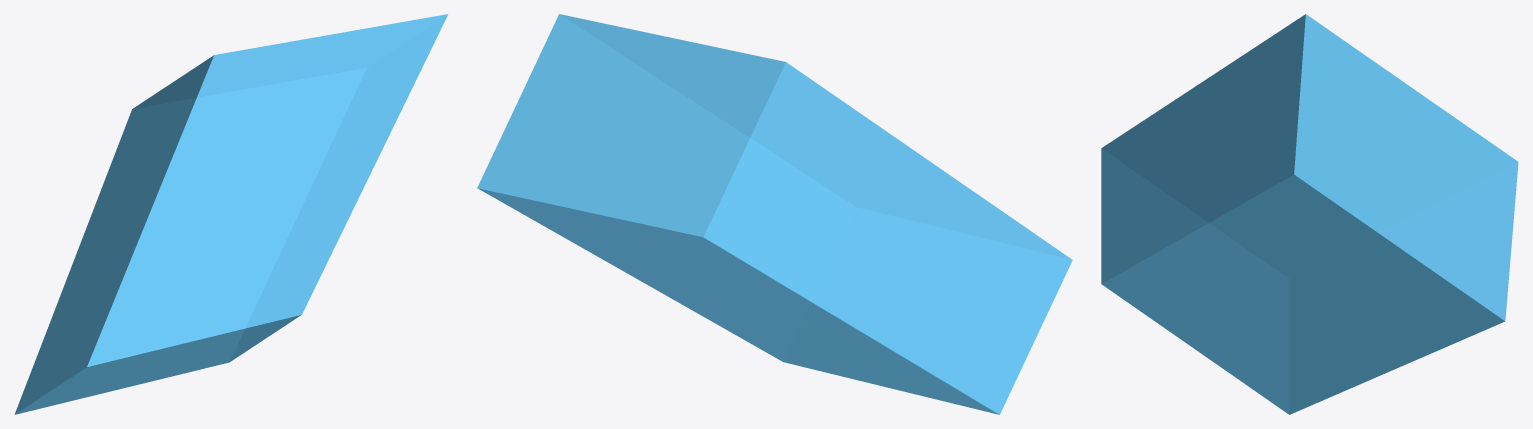
The model's file is Event_421127236_HBrechit_35.fbx.
3 renders of one model, left to right at view 1: azimuth 30°, elevation 25°; view 2: azimuth 150°, elevation 25°; view 3: azimuth 270°, elevation 25°, orthographic. The views are drawn at different scales.
Visible parts, largest first — view 1: Model; view 2: Model; view 3: Model.
Part boxes in pixels (x1,y1,x2,y2): Model: (14,14,448,414); Model: (477,14,1072,414); Model: (1101,14,1518,414).
Size of the model in its own units: 1.11 by 0.7393 by 0.7069.
